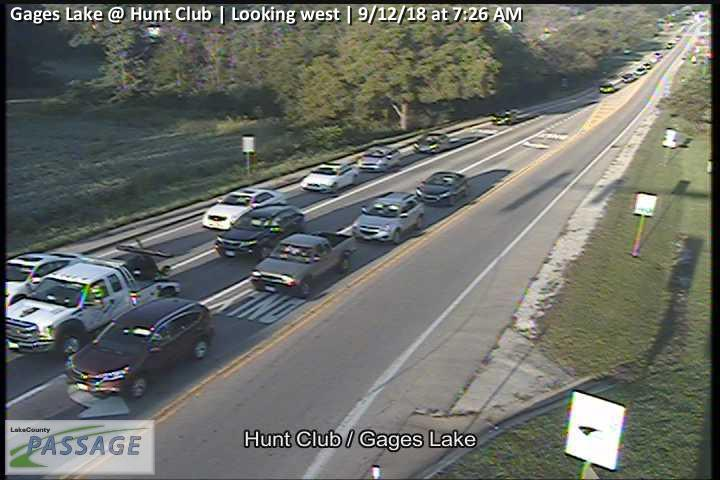SUV: (65, 297, 215, 398), (216, 202, 305, 258)
Sedan: (1, 251, 87, 324), (352, 191, 425, 244), (202, 186, 288, 229), (300, 161, 358, 193), (415, 172, 469, 205), (356, 147, 402, 173), (415, 132, 450, 153)
Truck: (6, 240, 181, 355), (251, 229, 358, 296)
